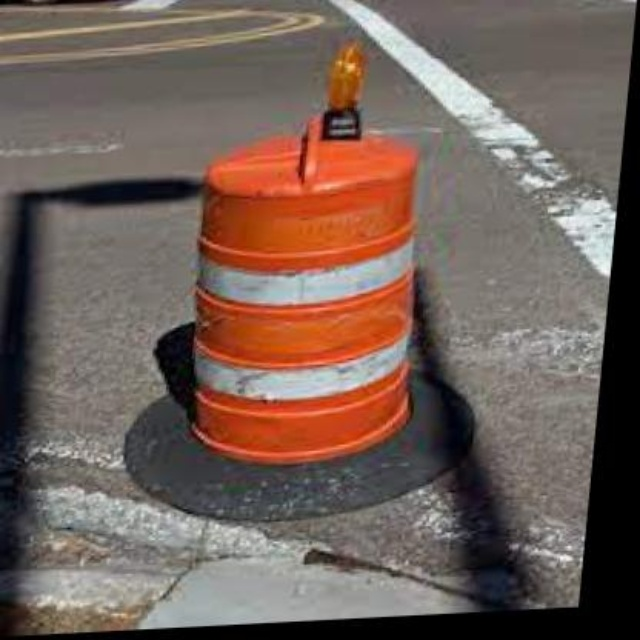obstacle: (180, 137, 457, 488)
